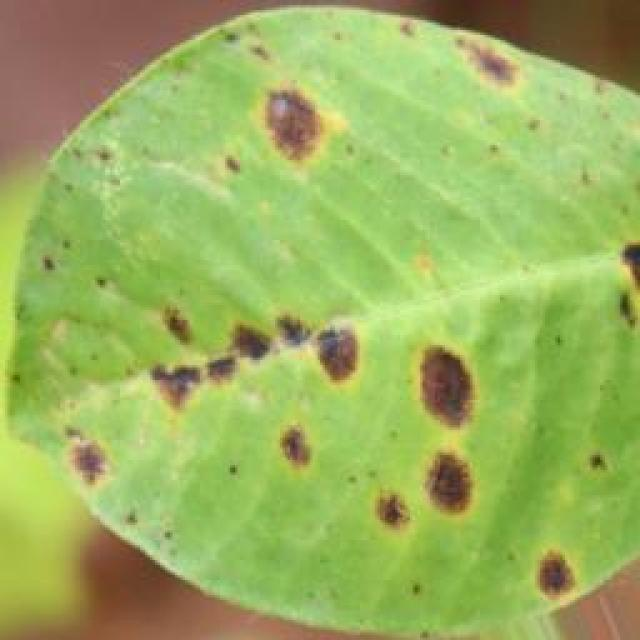Yellowish: (16, 8, 616, 638)
